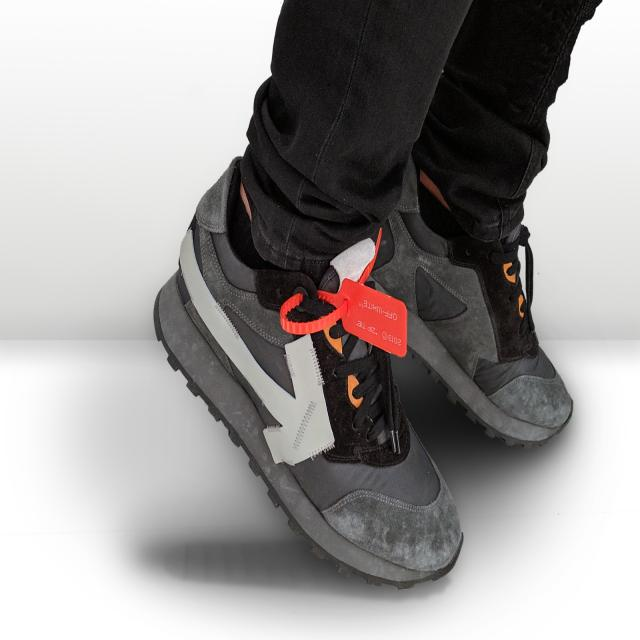shoe: (145, 152, 410, 618), (397, 143, 585, 447)
